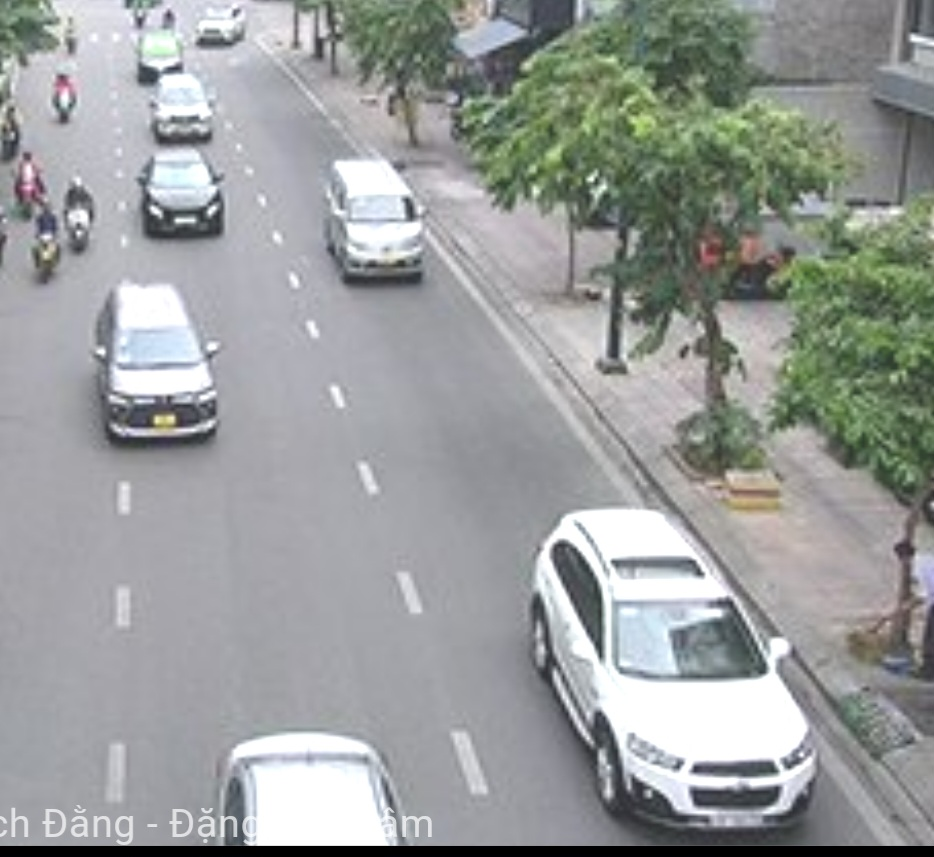car: (527, 508, 818, 832), (91, 285, 226, 449), (324, 159, 426, 284), (143, 149, 225, 235), (151, 77, 215, 140), (137, 31, 186, 78)
